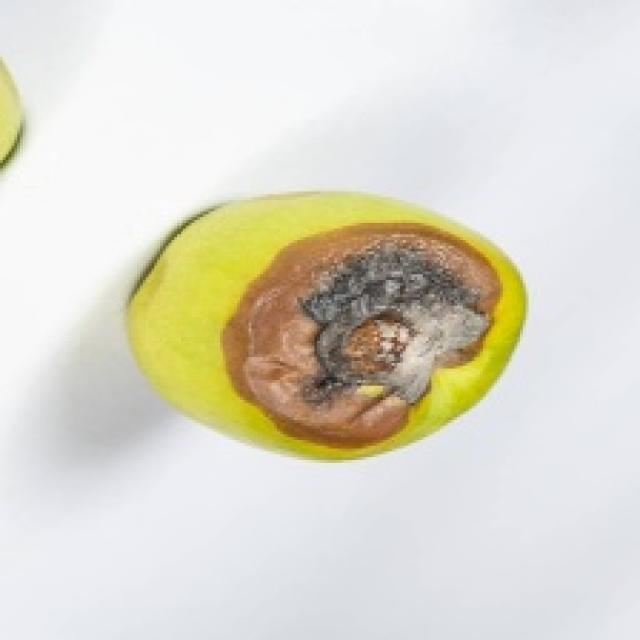rotten_apple: (130, 197, 524, 459)
